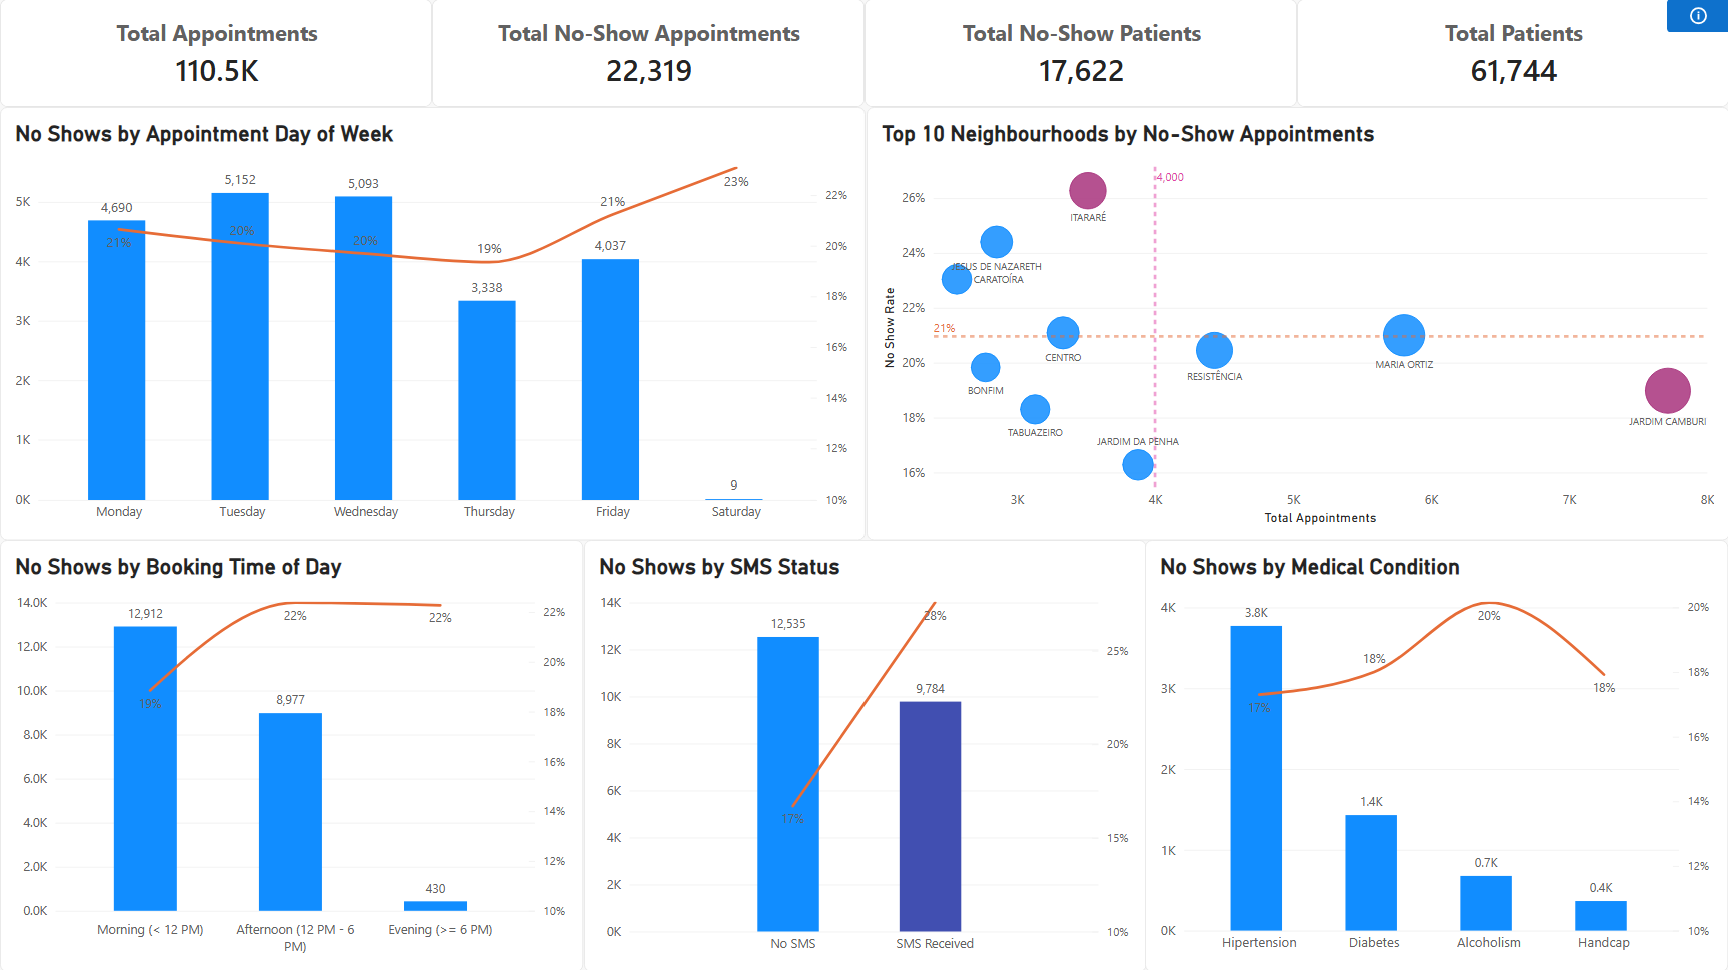

What the dashboard file says about the page in this screenshot:
{"tool":"powerbi","page":{"name":"Overview Page 2","canvas":[1920,1080],"ordinal":1},"visuals":[{"type":"cardVisual","fields":{"Data":["KaggleV2-May-2016 2.Total Appointments"]},"box":[0,0,480,120],"z":0},{"type":"cardVisual","fields":{"Data":["Patient_Summary.Total Patients"]},"box":[960,0,480,120],"z":1000},{"type":"cardVisual","fields":{"Data":["KaggleV2-May-2016 2.TotalPatients"]},"box":[1440,0,480,120],"z":2000},{"type":"cardVisual","fields":{"Data":["Patient_Summary.Total No Show Appointments"]},"box":[480,0,480,120],"z":3000},{"type":"lineClusteredColumnComboChart","title":"No Shows by Appointment Day of Week","fields":{"Category":["Appointment_DayOfWeek.Appointment_DayOfWeek"],"Y":["Sum(Appointment_DayOfWeek.Total_NoShows)"],"Y2":["Avg(Appointment_DayOfWeek.No_Show_Rate)"]},"box":[0,119.4,961.1,480.6],"z":4000},{"type":"lineClusteredColumnComboChart","title":"No Shows by SMS Status","fields":{"Category":["Apppointment_SMS_Status.SMS_Status"],"Y":["Sum(Apppointment_SMS_Status.Total_NoShows)"],"Y2":["Sum(Apppointment_SMS_Status.No_Show_Rate)"]},"box":[648,600,624,480],"z":5000},{"type":"scatterChart","title":"Top 10 Neighbourhoods by No-Show Appointments","fields":{"Category":["Top Neighbourhood.Neighbourhood"],"Size":["Sum(Top Neighbourhood.Total_NoShows)"],"X":["Sum(Top Neighbourhood.Total_Appointments)"],"Y":["Sum(Top Neighbourhood.No_Show_Rate)"]},"box":[961.1,119.4,958.3,480.6],"z":6000},{"type":"lineClusteredColumnComboChart","title":"No Shows by Medical Condition","fields":{"Category":["Medical_Appointments.Condition_Type"],"Y":["Medical_Appointments.Missed_Appointments"],"Y2":["Sum(Medical_Appointments.No_Show_Rate)"]},"box":[1272,600,648,480],"z":7000},{"type":"lineClusteredColumnComboChart","title":"No Shows by Booking Time of Day","fields":{"Category":["Appointments by Time of Day.Time_Of_Day"],"Y":["Sum(Appointments by Time of Day.No_Show_Appointments)"],"Y2":["Sum(Appointments by Time of Day.No_Show_Rate)"]},"box":[0,600,648,480],"z":8000},{"type":"actionButton","box":[1850,0,70,37],"z":9000}]}

Visuals, with their boxes in screenshot pixels (x1, y1, x2, y2), scaled from the page's 1920x1080 canvas onto the 1728x970 screenshot:
cardVisual - KaggleV2-May-2016 2.Total Appointments: 0 0 432 108
cardVisual - Patient_Summary.Total Patients: 864 0 1296 108
cardVisual - KaggleV2-May-2016 2.TotalPatients: 1296 0 1727 108
cardVisual - Patient_Summary.Total No Show Appointments: 432 0 864 108
"No Shows by Appointment Day of Week" lineClusteredColumnComboChart: 0 107 865 539
"No Shows by SMS Status" lineClusteredColumnComboChart: 583 539 1145 969
"Top 10 Neighbourhoods by No-Show Appointments" scatterChart: 865 107 1727 539
"No Shows by Medical Condition" lineClusteredColumnComboChart: 1145 539 1727 969
"No Shows by Booking Time of Day" lineClusteredColumnComboChart: 0 539 583 969
actionButton: 1665 0 1727 33
